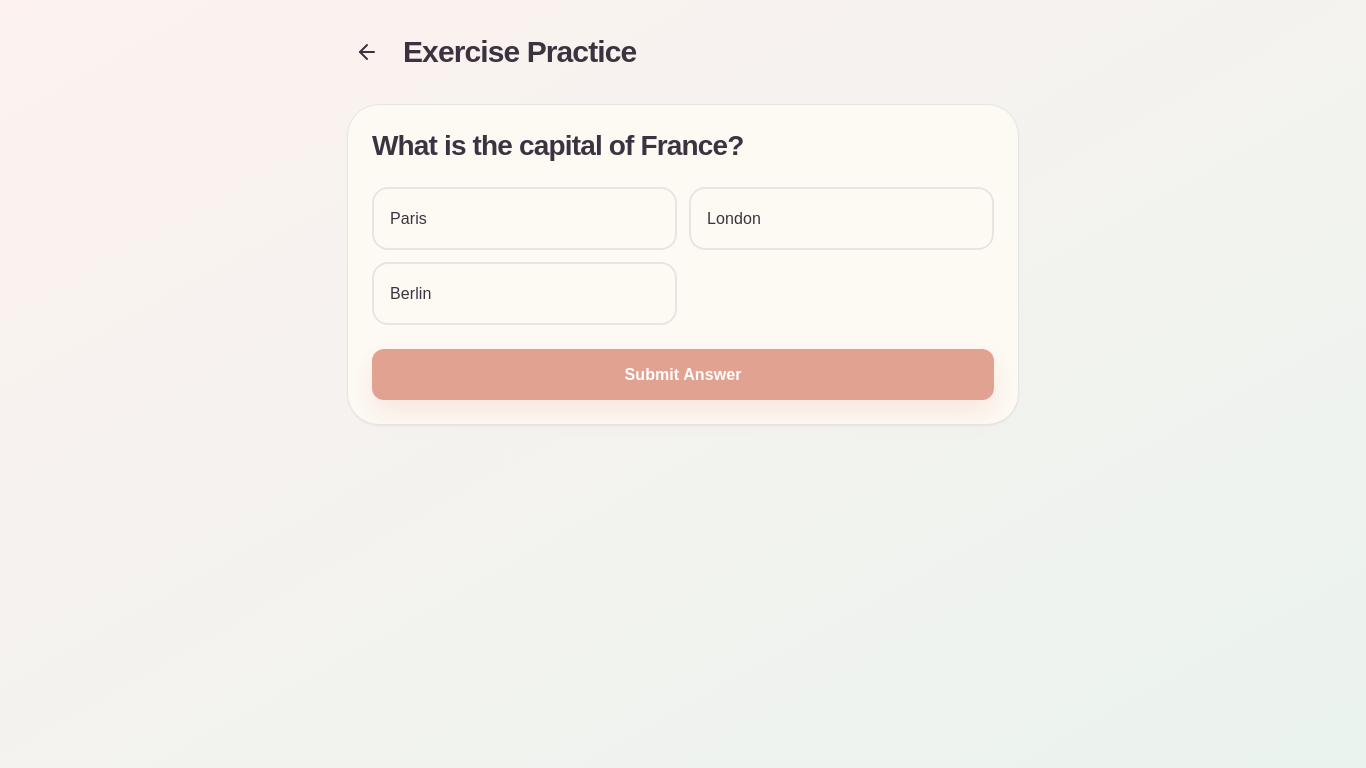
Test case: ExercisePractice out-of-hearts handling › shows the out-of-hearts card, not a generic error, when submit rejects with a 403
Click the button "Paris" at (408, 218), box [372,187,677,250]
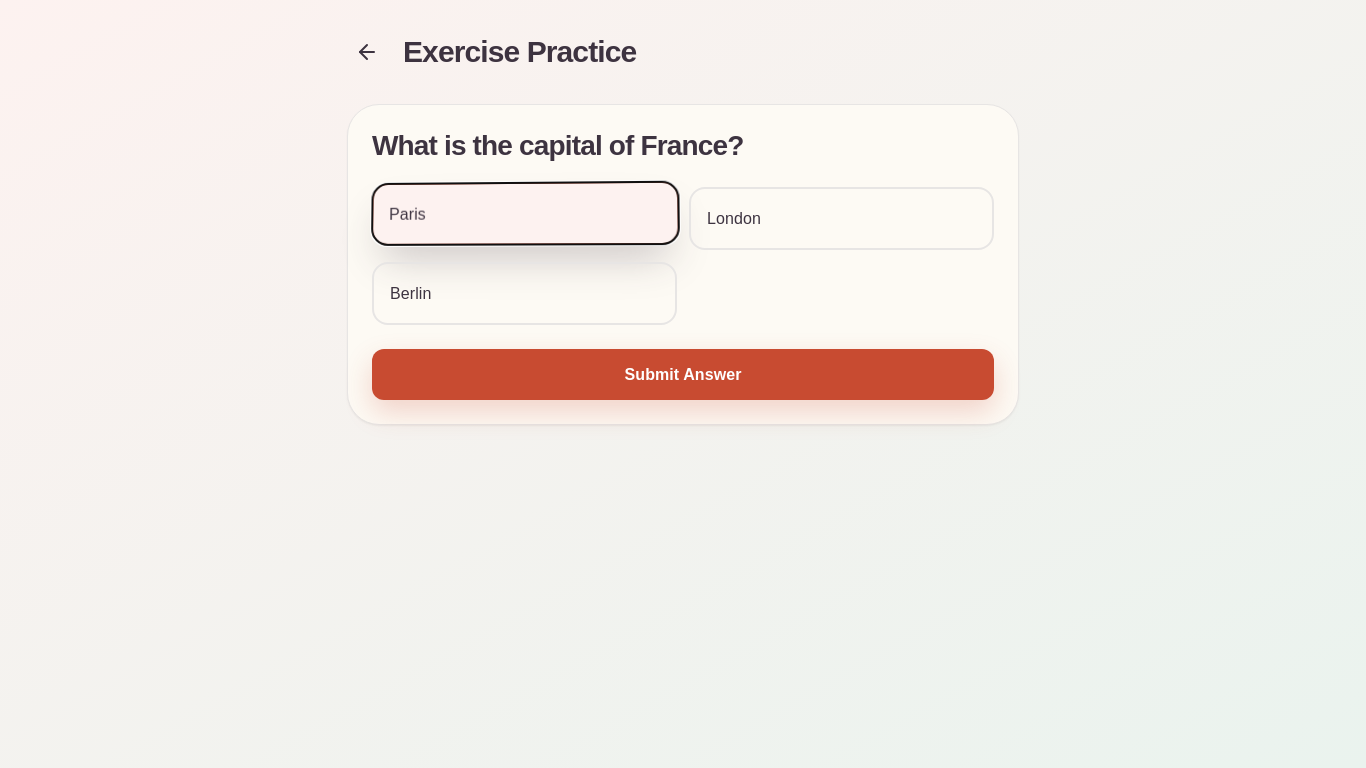
Click the button "Submit Answer" at (683, 375), box [372,349,994,400]
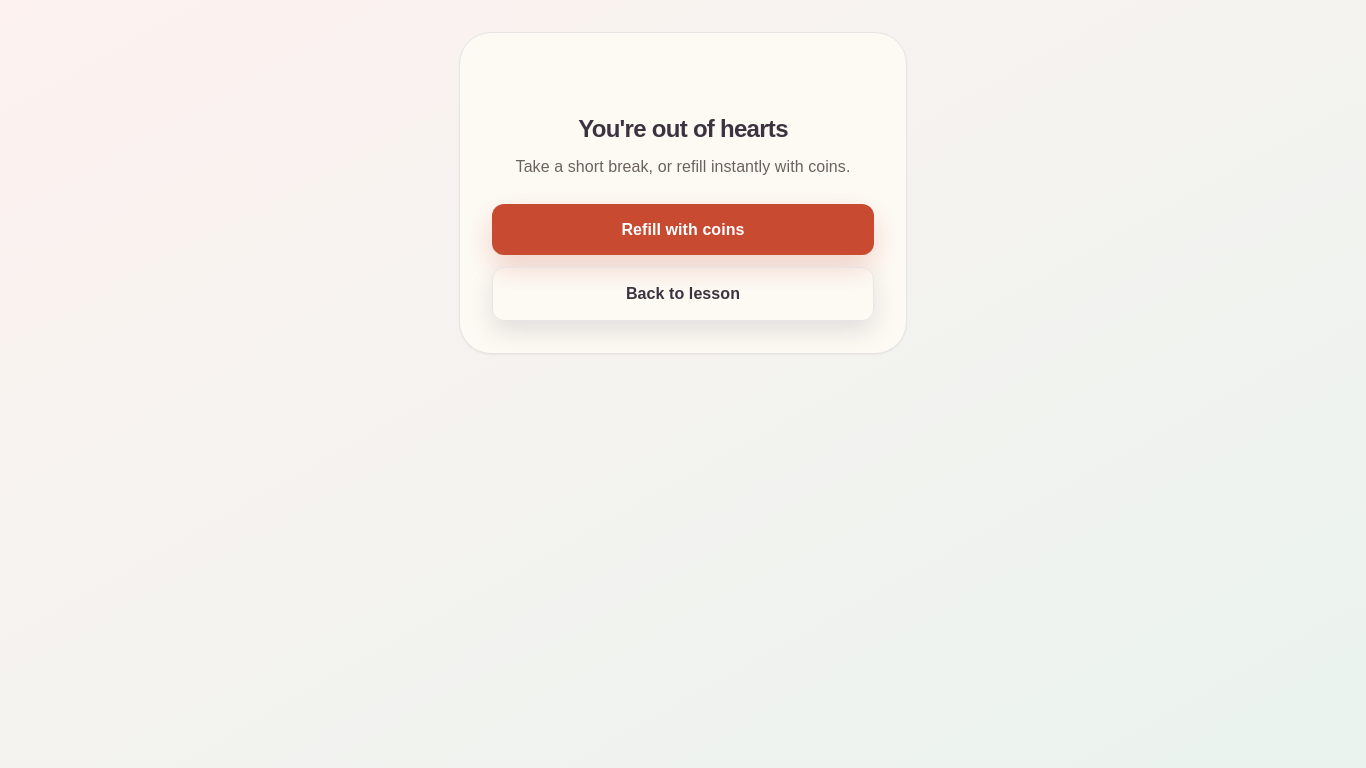
Expected: the heading "You're out of hearts" is shown, [578,115,788,142]
Expected: the button "Refill with coins" is shown, [492,204,874,255]
Expected: the button "Back to lesson" is shown, [492,267,874,321]
